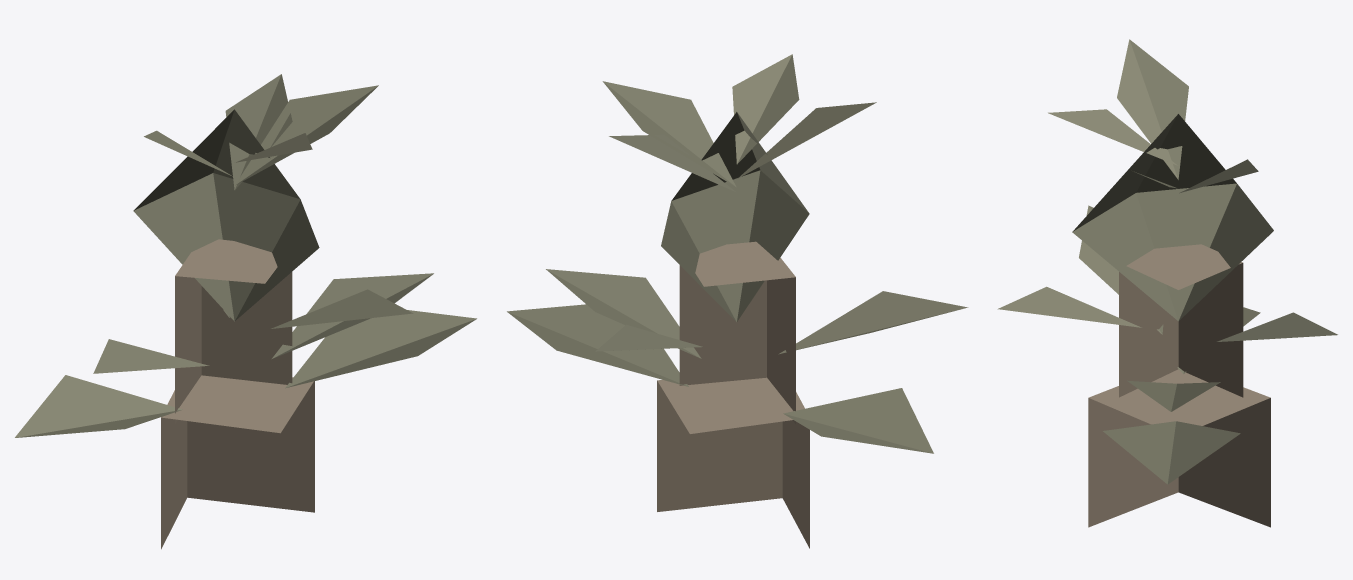
Rendered from guan.yueju@seedling__winter.glb.
The picture shows the model from 3 angles, left to right: view 1: azimuth 30°, elevation 25°; view 2: azimuth 150°, elevation 25°; view 3: azimuth 270°, elevation 25°; orthographic projection. The views are drawn at different scales.
Visible parts, largest first — view 1: guan.yueju@seedling__winter; view 2: guan.yueju@seedling__winter; view 3: guan.yueju@seedling__winter.
Part boxes in pixels (x1=…): guan.yueju@seedling__winter: x1=15, y1=74, x2=476, y2=549; guan.yueju@seedling__winter: x1=507, y1=54, x2=968, y2=548; guan.yueju@seedling__winter: x1=997, y1=39, x2=1337, y2=527.
Bounding box in the file's own units: 0.0936 × 0.1031 × 0.0633.
